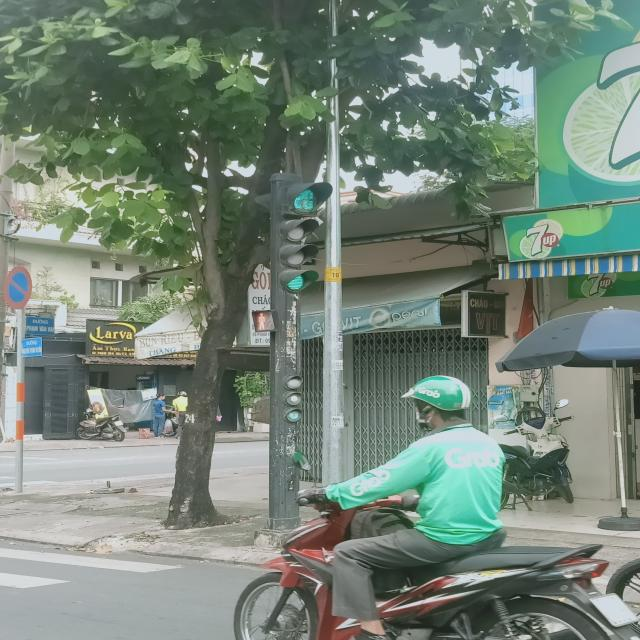Green: (273, 214, 317, 305), (277, 372, 306, 428)
